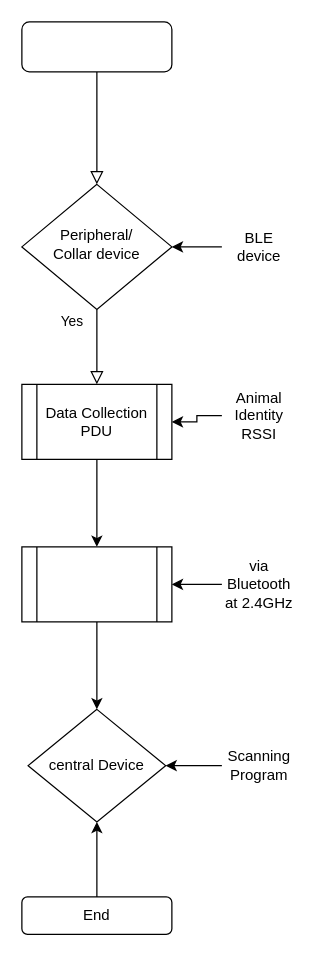
The diagram is 319 pixels wide and 956 high, and some of its shapes have lost their labels. Each missing label, with the centre of its shape:
"Data Advertisement" goes at pixel 96 584.
"Start" goes at pixel 96 46.
